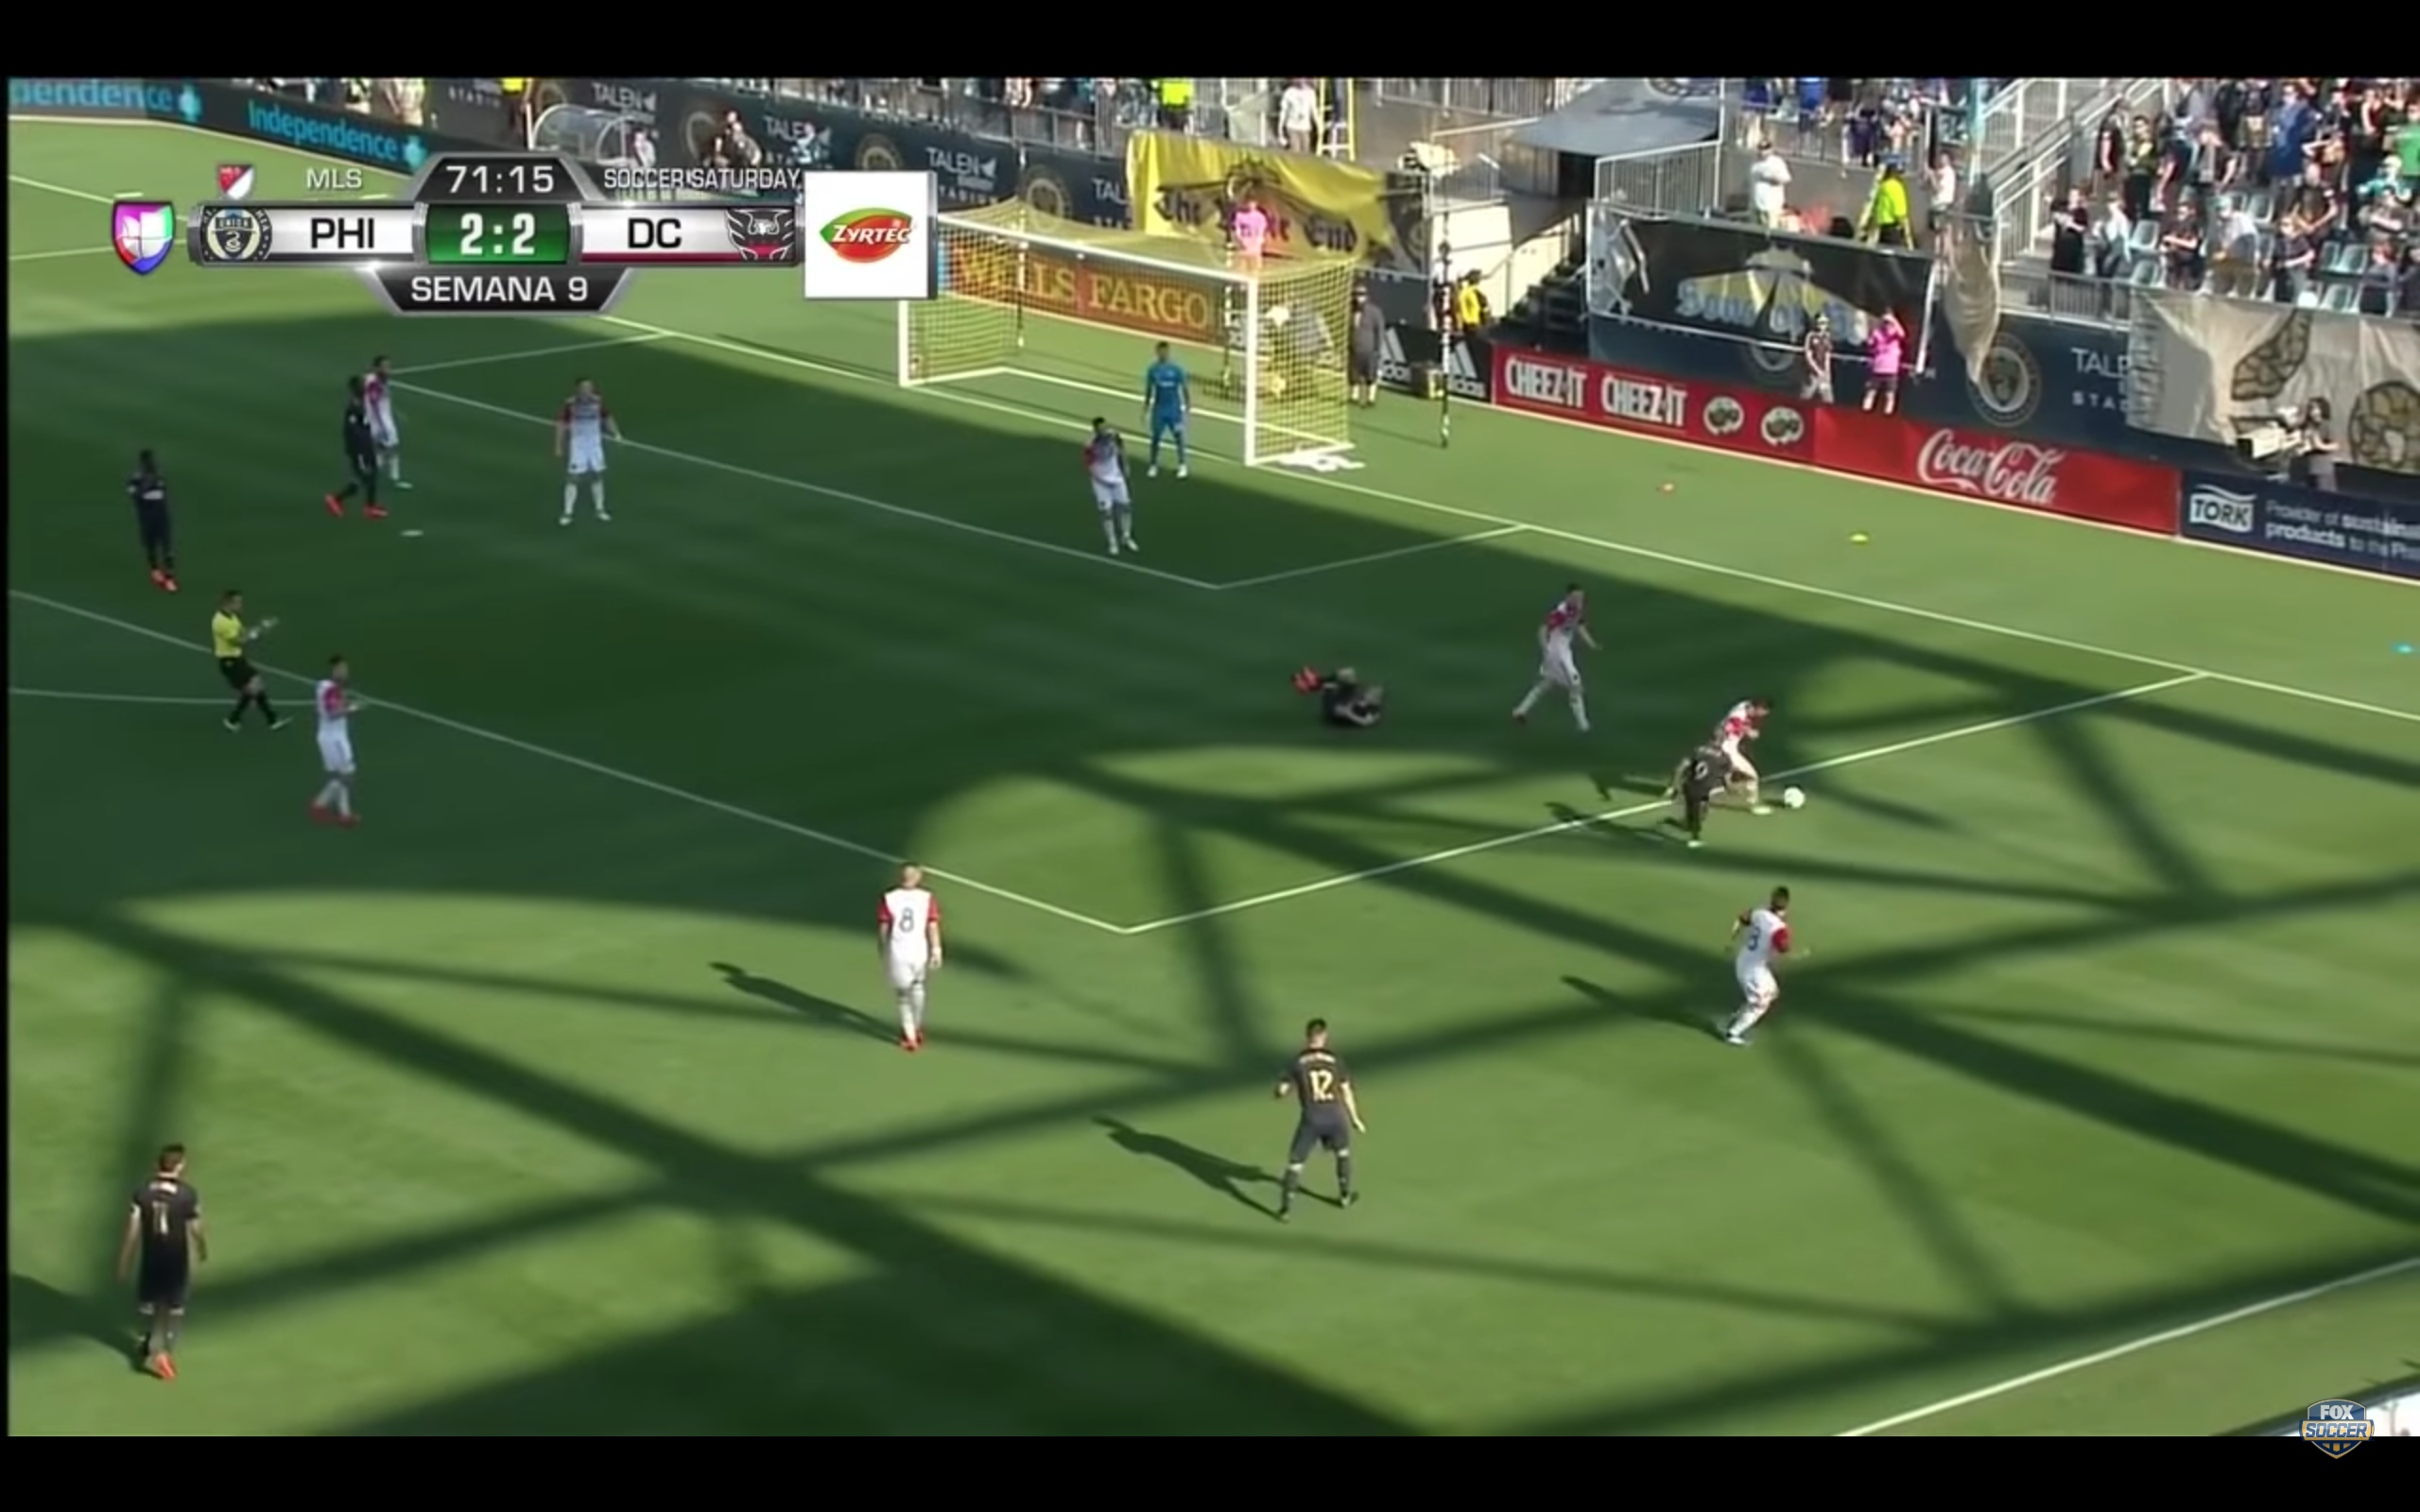referee: (201, 591, 290, 743)
soccer ball: (1780, 782, 1813, 814)
soccer player: (105, 1141, 216, 1384), (1259, 1009, 1375, 1231), (850, 857, 976, 1059), (1713, 875, 1820, 1050), (297, 652, 382, 836), (1514, 583, 1609, 751), (535, 377, 631, 533), (1070, 414, 1152, 562), (1649, 725, 1735, 860), (114, 453, 192, 599), (319, 375, 387, 524), (1135, 342, 1205, 484), (1284, 653, 1396, 736), (1709, 689, 1777, 822), (369, 355, 411, 507)
